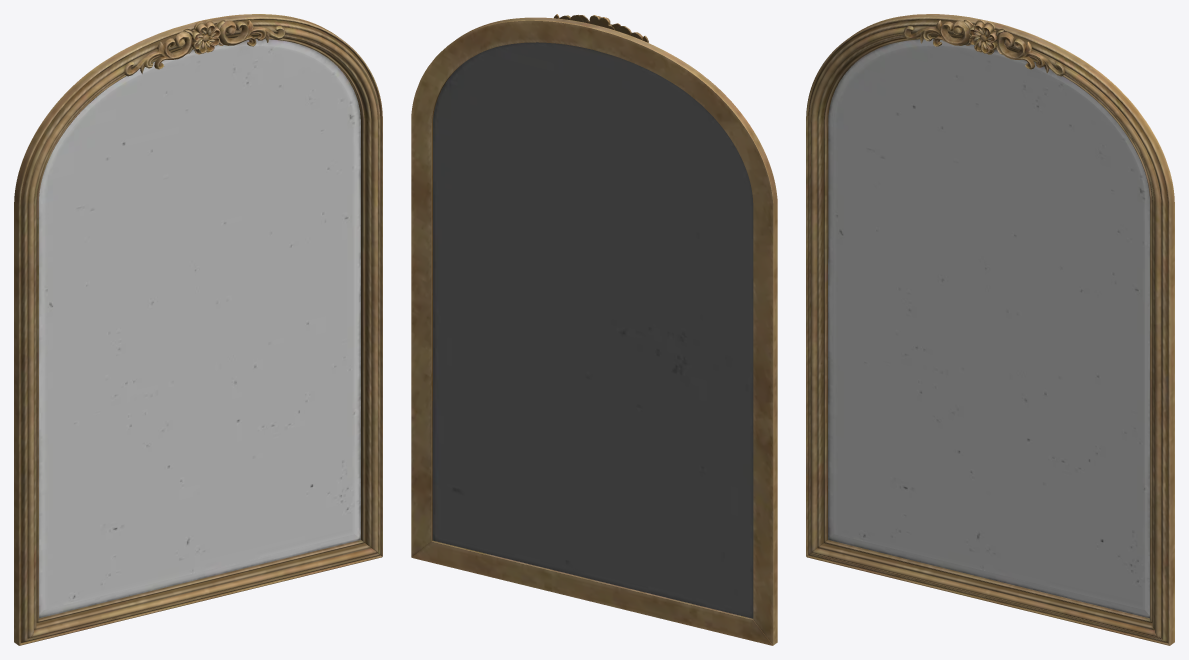
The model's file is ornate_mirror_01.glb.
The picture shows the model from 3 angles, left to right: view 1: azimuth 30°, elevation 25°; view 2: azimuth 150°, elevation 25°; view 3: azimuth 330°, elevation 25°; orthographic projection.
Parts seen in each view (by area): view 1: ornate_mirror_01; view 2: ornate_mirror_01; view 3: ornate_mirror_01.
Part boxes in pixels (x1,y1,x2,y2): ornate_mirror_01: (14,14,382,645); ornate_mirror_01: (411,14,777,645); ornate_mirror_01: (806,14,1174,645).
Bounding box in the file's own units: 0.4865 × 0.7442 × 0.026.
Materials: 1 (1 with a texture image).
